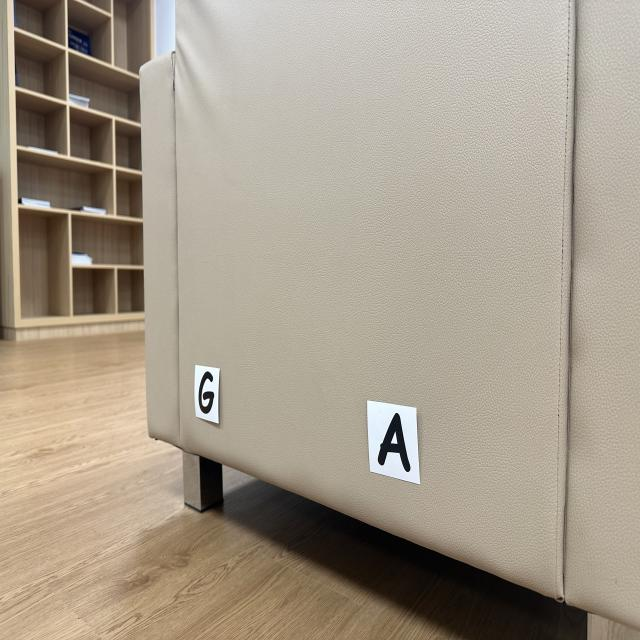A: (378, 413, 410, 472)
G: (199, 372, 214, 413)
